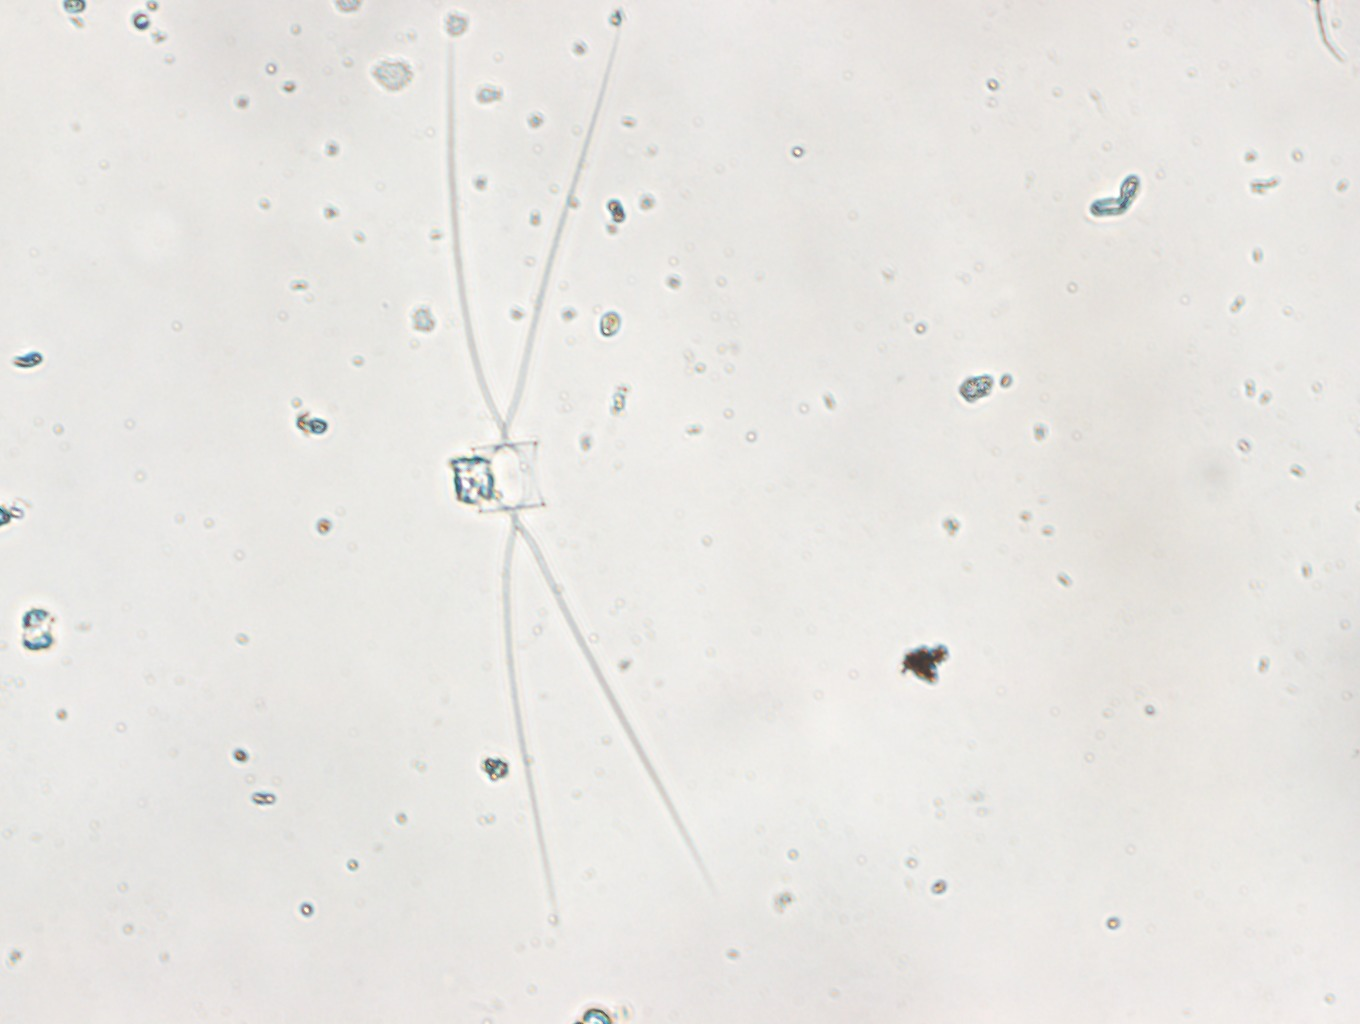chaetoceros: (431, 27, 719, 918)
